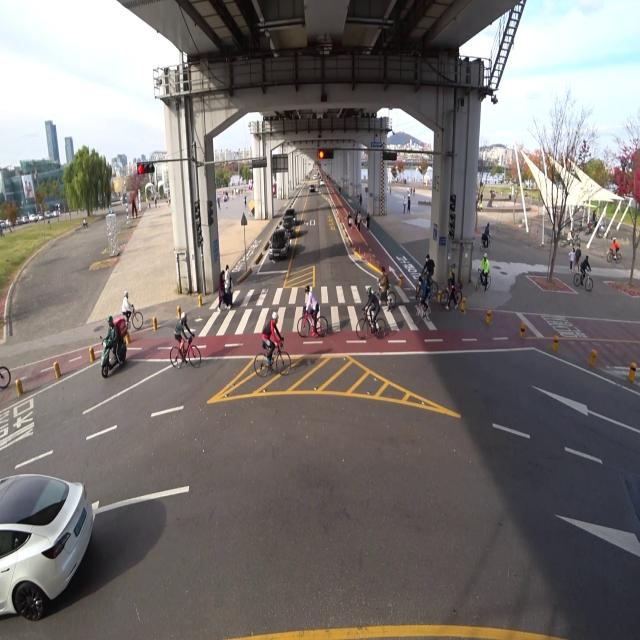Car: (0, 447, 115, 634), (268, 222, 291, 272), (280, 215, 298, 238), (282, 201, 296, 225)
Motorcycle: (98, 312, 128, 378)
